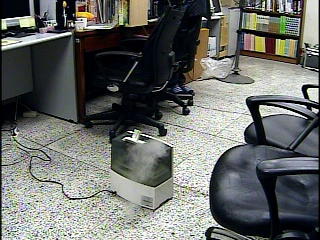smoke: (114, 133, 169, 208)
